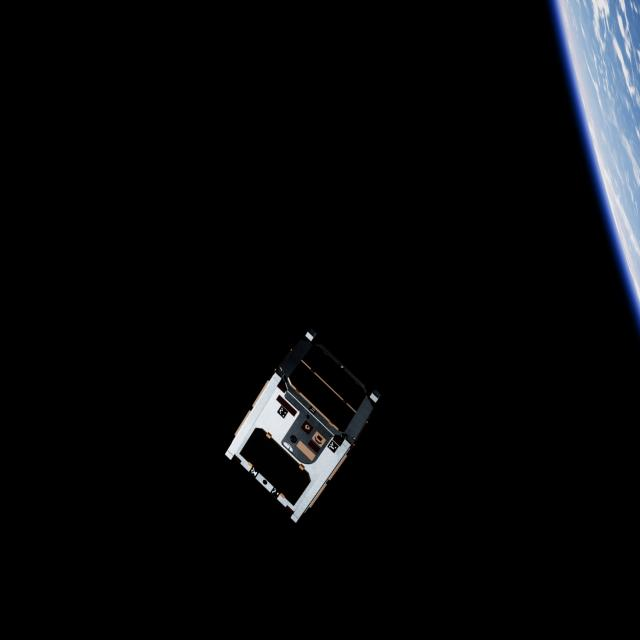medium_debris: (222, 324, 383, 520)
